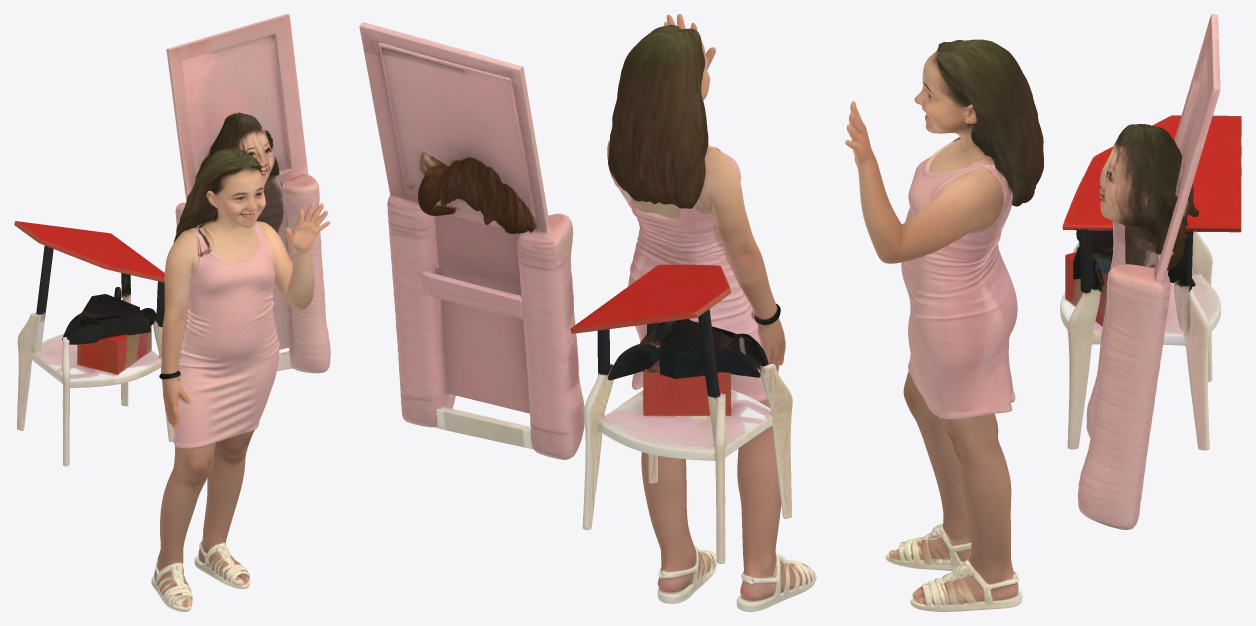
File: valley_belle.glb
3 renders of one model, left to right at view 1: azimuth 30°, elevation 25°; view 2: azimuth 150°, elevation 25°; view 3: azimuth 270°, elevation 25°, orthographic. The views are drawn at different scales.
Bounding box in the file's own units: 1.21 × 1.9 × 1.1.
1 material, 1 textured.
